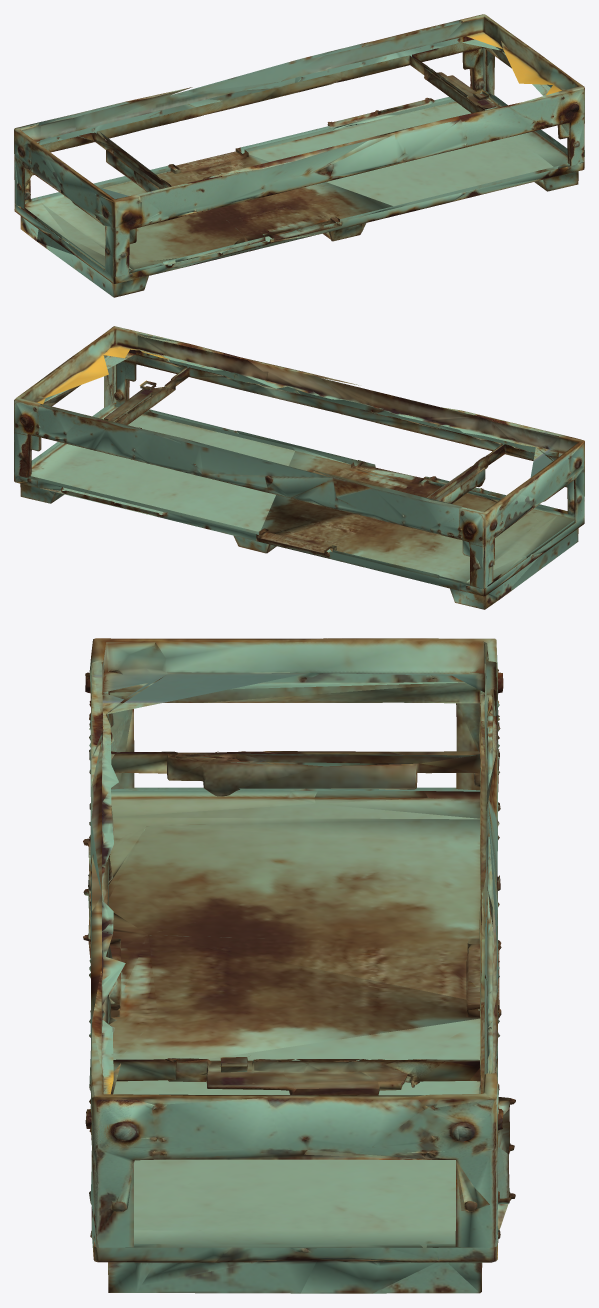
The model's file is vasca_bassa_telaio.glb.
The picture shows the model from 3 angles, top to bottom: view 1: azimuth 30°, elevation 25°; view 2: azimuth 150°, elevation 25°; view 3: azimuth 270°, elevation 25°; orthographic projection. The views are drawn at different scales.
Visible parts, largest first — view 1: vasca_bassa_telaio; view 2: vasca_bassa_telaio; view 3: vasca_bassa_telaio.
Part boxes in pixels (x1,y1,x2,y2): vasca_bassa_telaio: (14,14,584,297); vasca_bassa_telaio: (14,326,584,609); vasca_bassa_telaio: (83,638,515,1293).
Bounding box in the file's own units: 2 × 0.4025 × 0.7907.
1 material, 1 textured.
